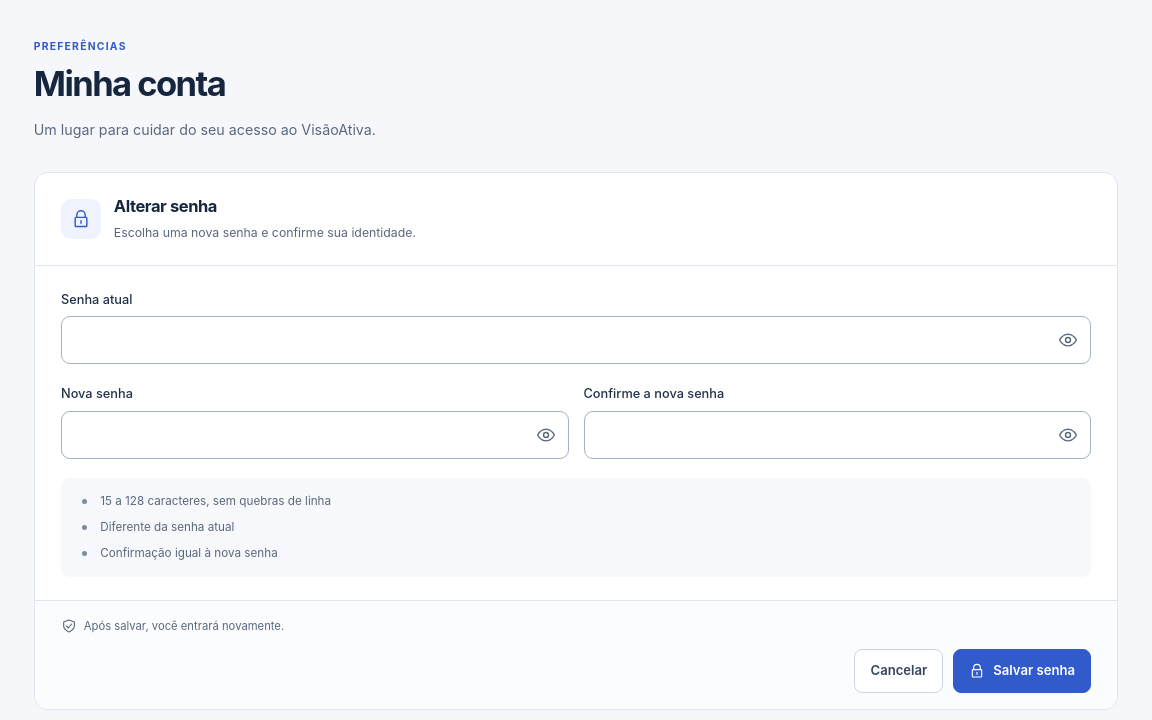
Minha conta › permite mostrar senhas, evita envio duplicado e orienta novo login após sucesso
Type "frase atual sintética para teste 123" into the password field with id "account-current-password" at (554,340), box x1=62 y1=317 x2=1046 y2=363
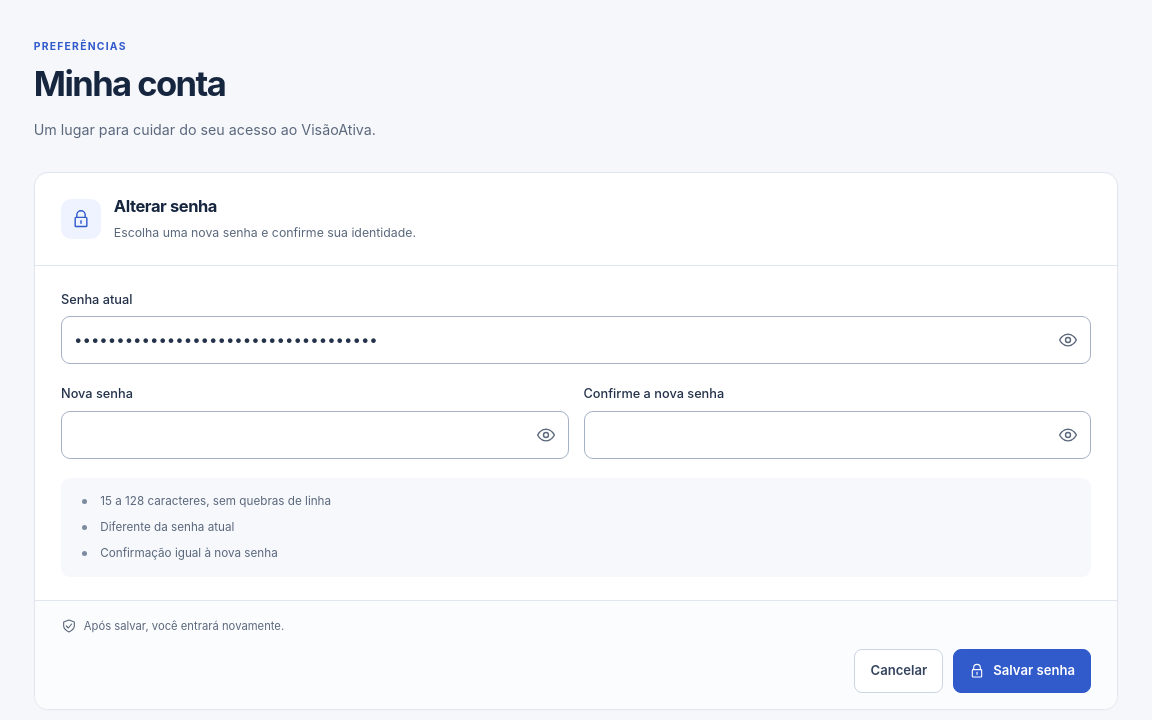
Type "nova frase sintética para teste 456" into the password field with id "account-password" at (293,435), box x1=62 y1=412 x2=524 y2=458
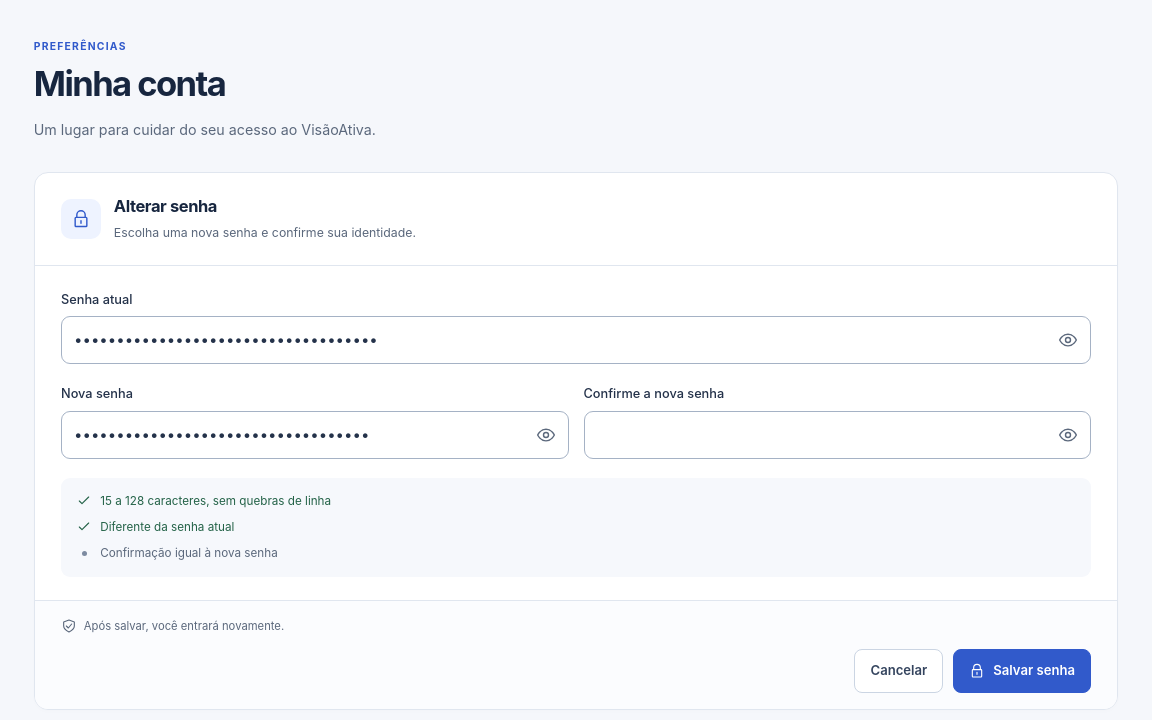
Type "nova frase sintética para teste 456" into the password field with id "account-confirmation" at (815,435), box x1=584 y1=412 x2=1046 y2=458
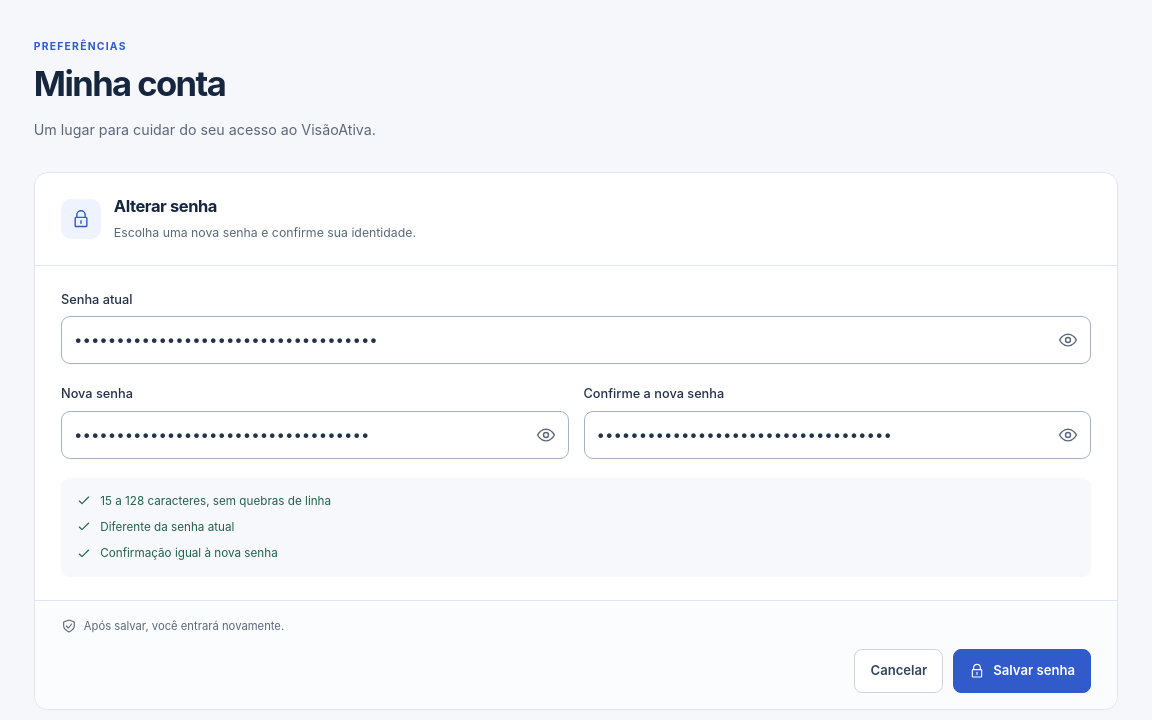
Click the button named "Mostrar nova senha" at (546,435), box x1=524 y1=413 x2=568 y2=457
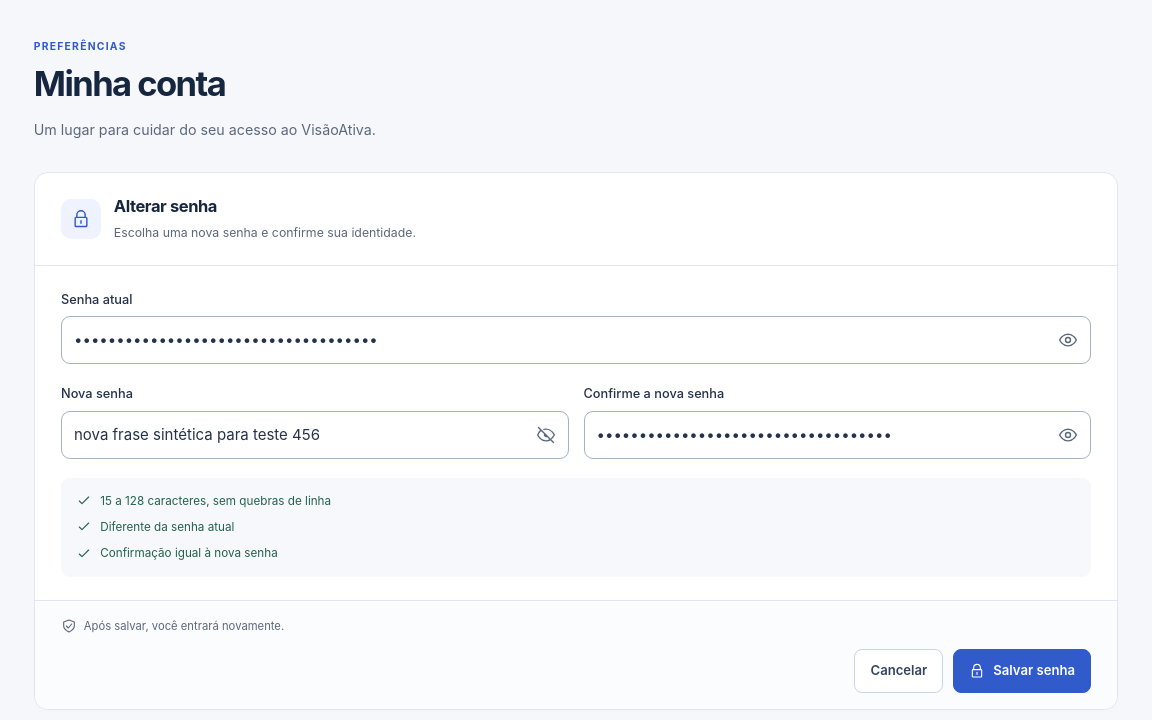
Submit the form, box x1=35 y1=266 x2=1117 y2=709
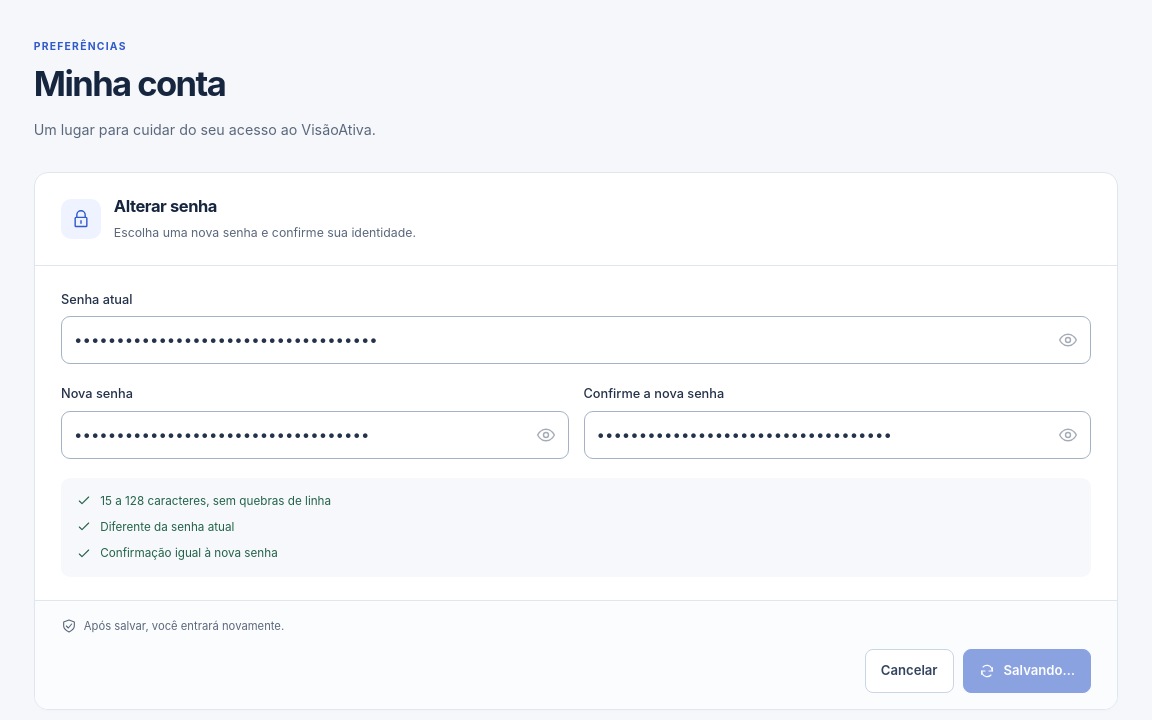
Submit the form, box x1=35 y1=266 x2=1117 y2=709
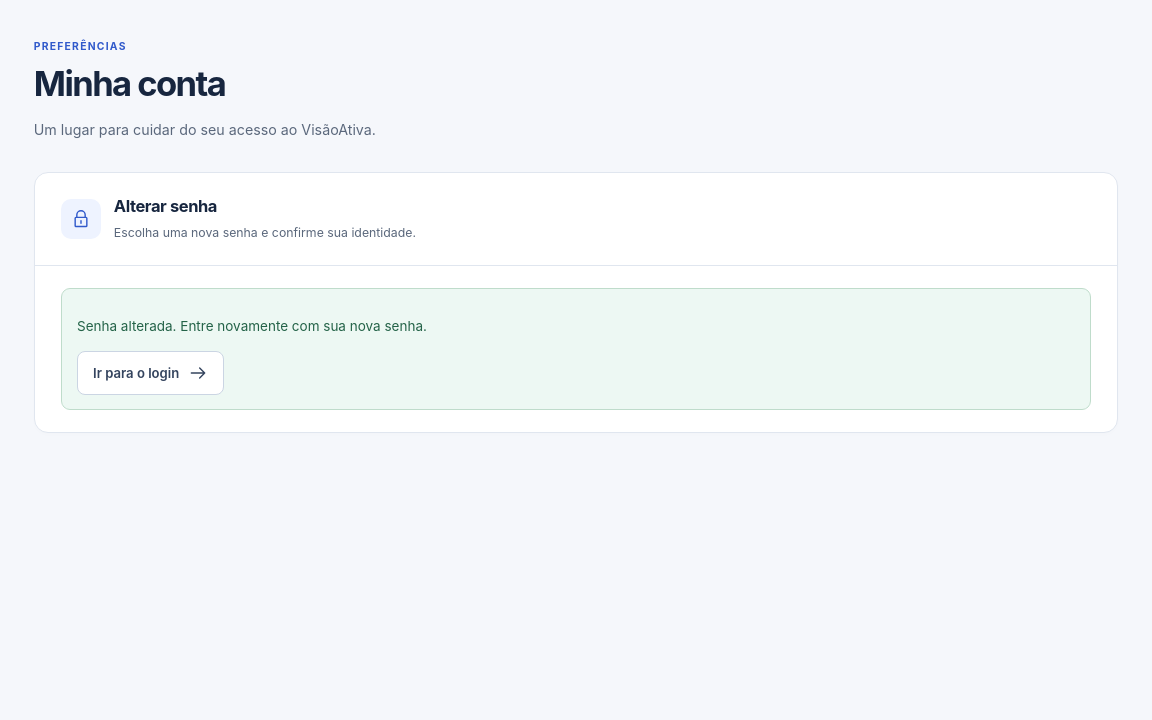
Expected: the message "Senha alterada. Entre novamente com sua nova senha. Ir para o login" is shown, x1=61 y1=288 x2=1091 y2=410
Expected: the link "Ir para o login" is shown, x1=77 y1=351 x2=224 y2=395
